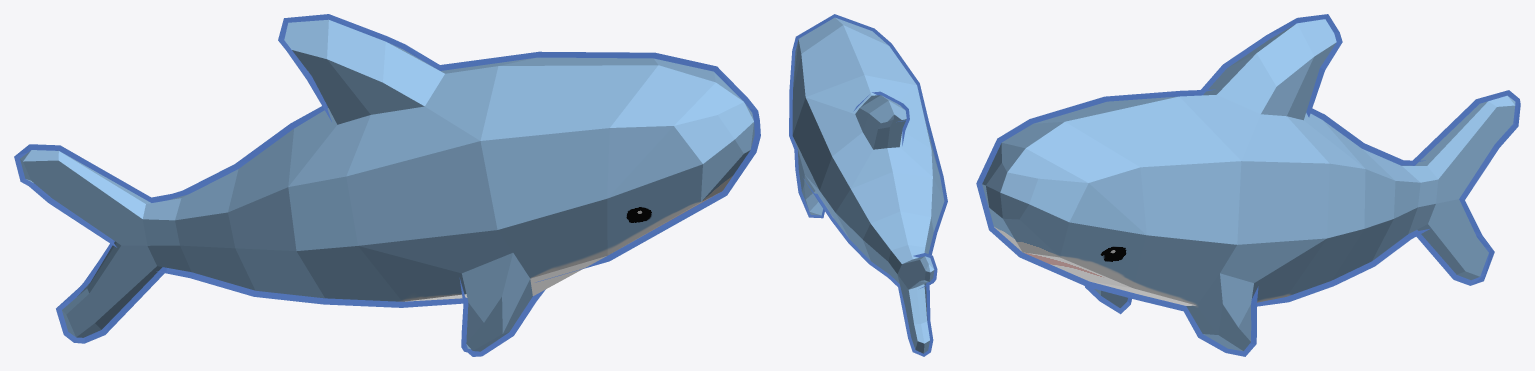
Rendered from blahaj.glb.
3 views of the same model, side by side, from view 1: azimuth 30°, elevation 25°; view 2: azimuth 150°, elevation 25°; view 3: azimuth 270°, elevation 25° (orthographic). The views are drawn at different scales.
Visible parts, largest first — view 1: Cube; view 2: Cube; view 3: Cube.
Boxes of the visible parts, x1,y1,x2,y2 form: Cube: [14, 14, 760, 356]; Cube: [789, 14, 947, 356]; Cube: [976, 14, 1520, 356].
Size of the model in its own units: 4.47 by 3.11 by 4.56.
Materials: 2 (1 with a texture image).
